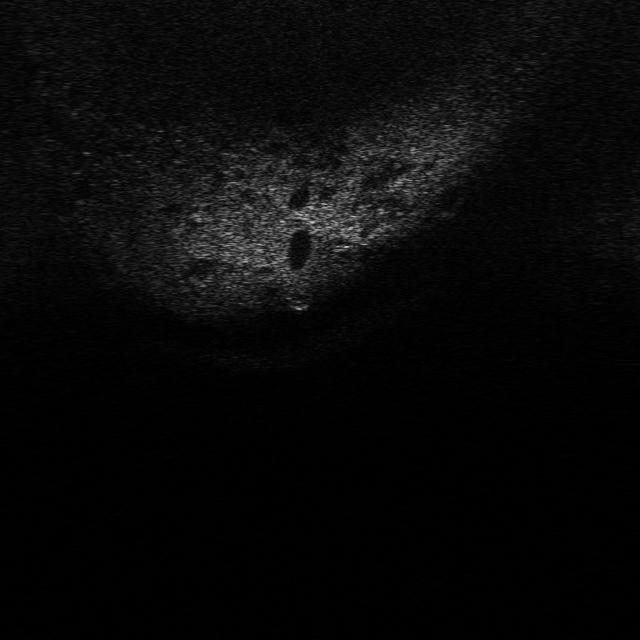ball: (278, 280, 316, 315)
